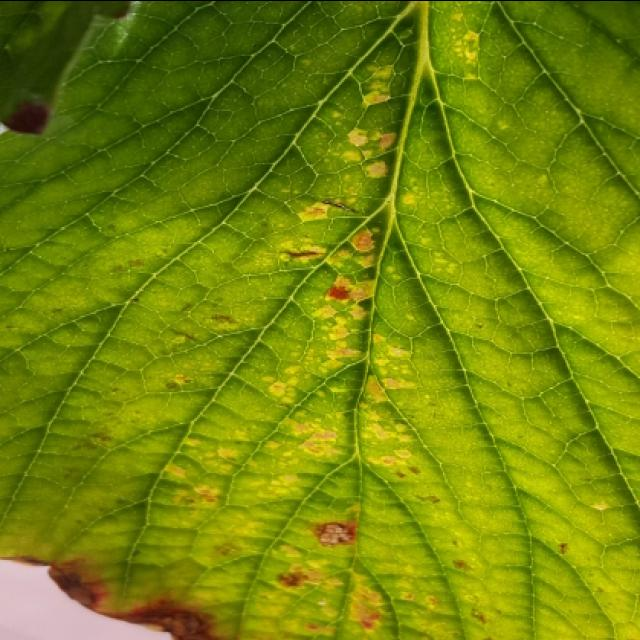Angular Leafspot: (9, 0, 614, 638)
